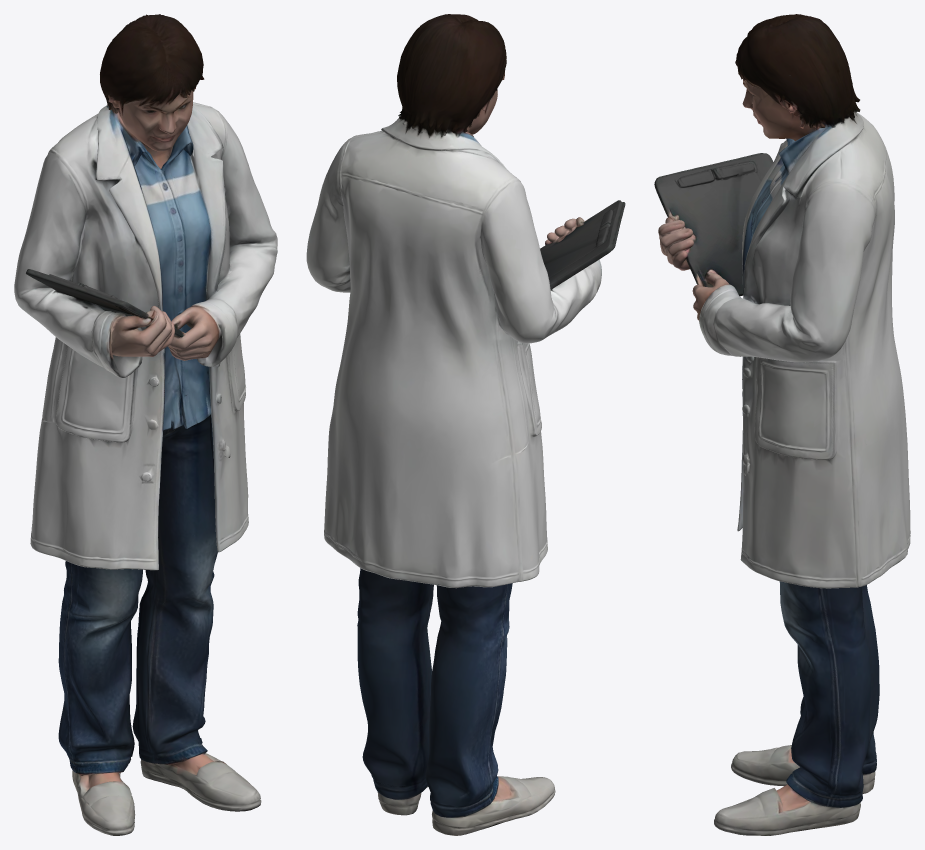
Rendered from therapist.glb.
3 renders of one model, left to right at view 1: azimuth 30°, elevation 25°; view 2: azimuth 150°, elevation 25°; view 3: azimuth 270°, elevation 25°, orthographic.
Parts seen in each view (by area): view 1: tripo_node_66e99f37-693a-4688-8c41-9127a0b09c86; view 2: tripo_node_66e99f37-693a-4688-8c41-9127a0b09c86; view 3: tripo_node_66e99f37-693a-4688-8c41-9127a0b09c86.
Boxes of the visible parts, x1=… form: tripo_node_66e99f37-693a-4688-8c41-9127a0b09c86: x1=14, y1=14, x2=277, y2=835; tripo_node_66e99f37-693a-4688-8c41-9127a0b09c86: x1=306, y1=14, x2=625, y2=835; tripo_node_66e99f37-693a-4688-8c41-9127a0b09c86: x1=654, y1=14, x2=910, y2=835.
Bounding box in the file's own units: 0.3614 × 0.9794 × 0.2893.
1 material, 1 textured.
